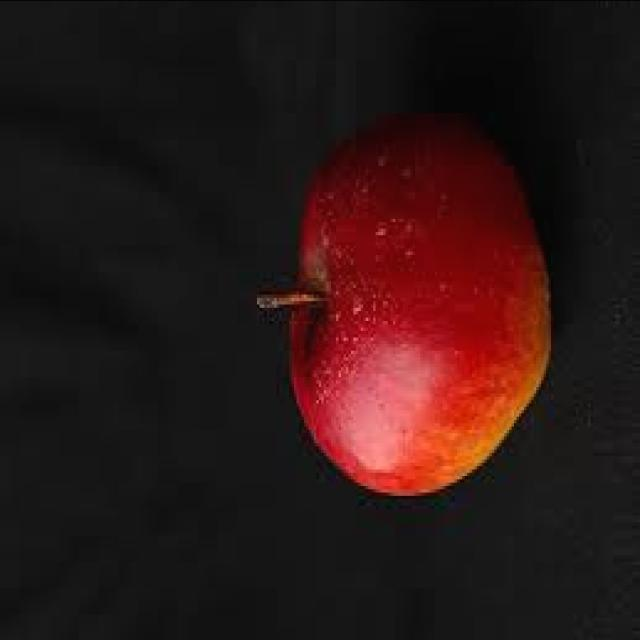non_orange: (264, 71, 593, 529)
